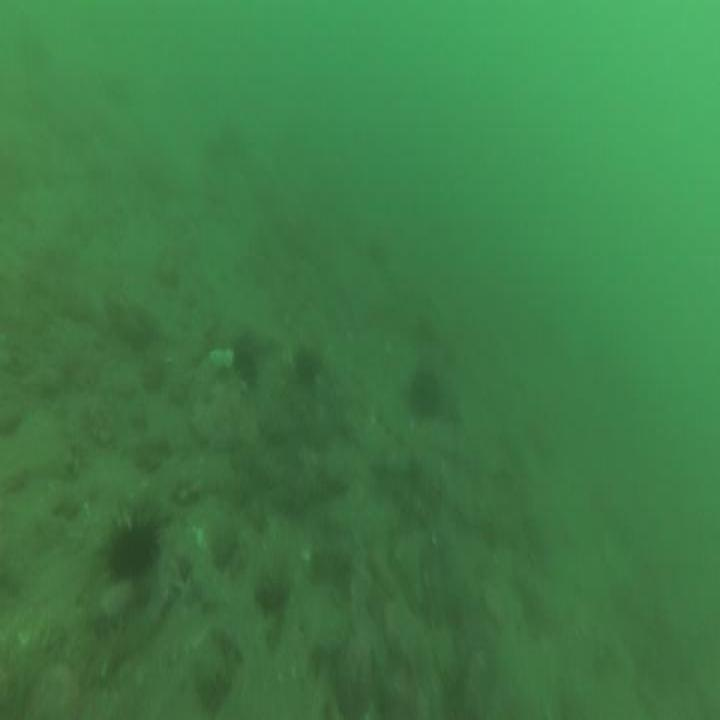echinus: (105, 498, 162, 585), (408, 361, 445, 423), (229, 340, 262, 396), (292, 338, 321, 394)
